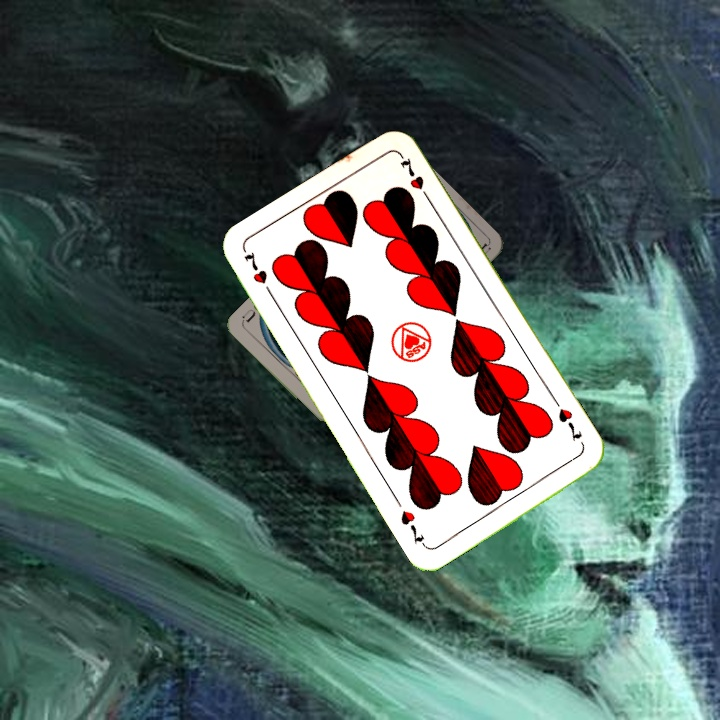H7: (240, 247, 276, 301), (550, 396, 585, 445)
